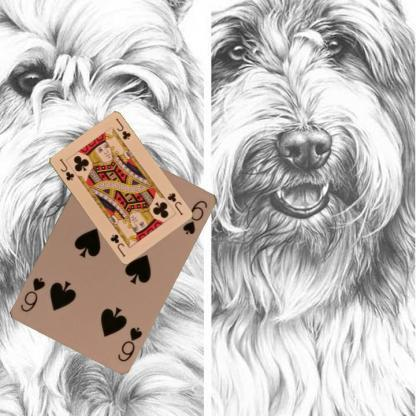6s: (115, 324, 144, 363)
Jc: (56, 156, 76, 182), (165, 190, 184, 216)
